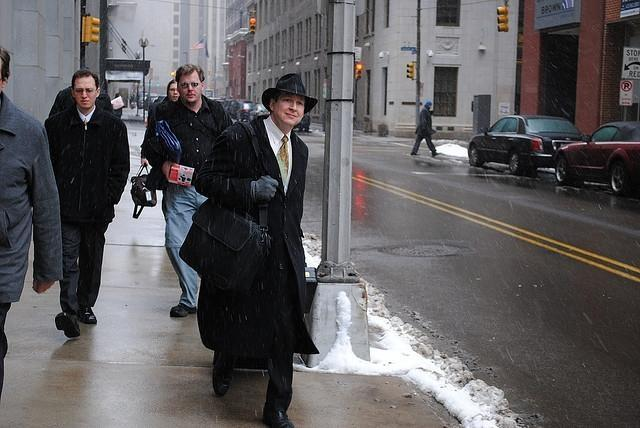car: (554, 118, 639, 194), (470, 116, 580, 172), (226, 100, 252, 118), (247, 103, 270, 122), (236, 102, 255, 121), (292, 114, 310, 131), (145, 96, 159, 108), (154, 96, 167, 106)
